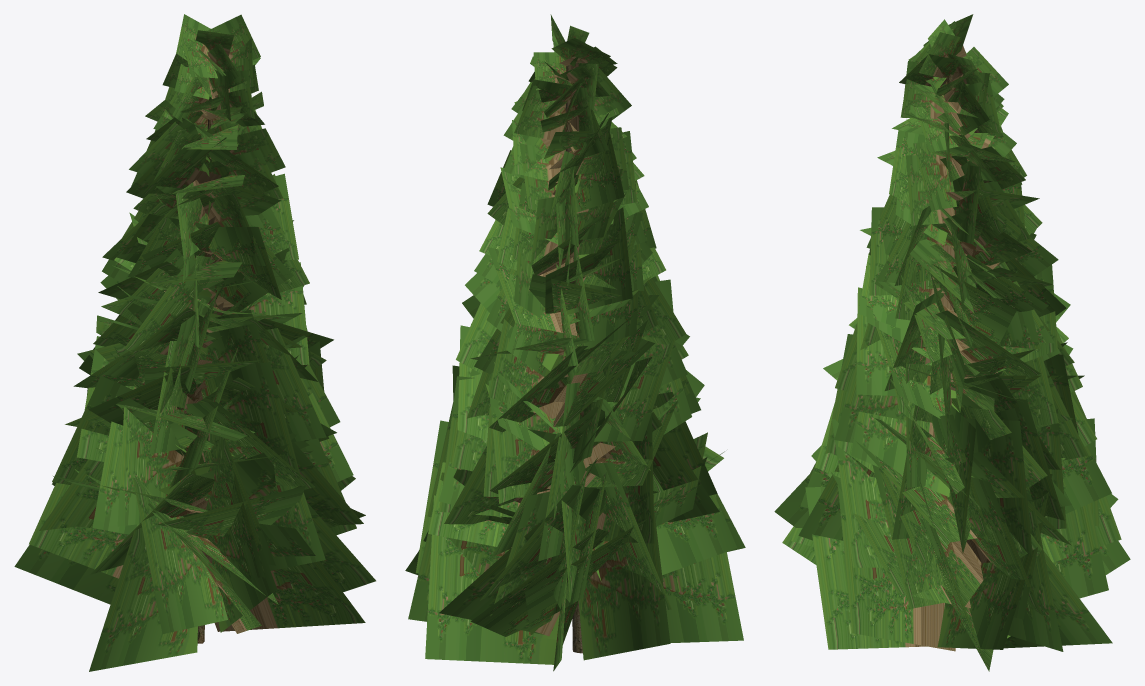
Rendered from pine-transformed.glb.
3 renders of one model, left to right at view 1: azimuth 30°, elevation 25°; view 2: azimuth 150°, elevation 25°; view 3: azimuth 270°, elevation 25°, orthographic.
Parts seen in each view (by area): view 1: Object_5; view 2: Object_5, Object_4; view 3: Object_5.
Boxes of the visible parts, x1,y1,x2,y2 form: Object_5: (14,14,375,671); Object_5: (405,14,745,671); Object_4: (565,65,582,653); Object_5: (774,14,1130,671).
Size of the model in its own units: 0.7847 by 1.64 by 0.8422.
2 materials, 2 textured.
